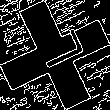L_SW: (26, 31, 84, 79)
